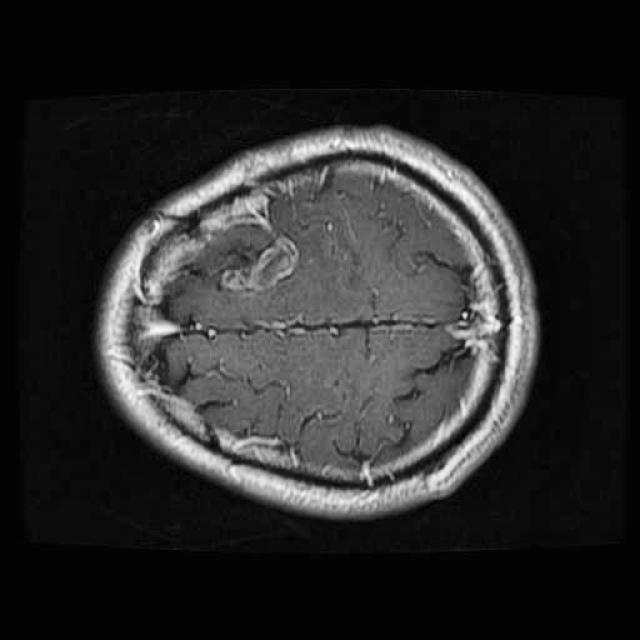Non-Tumor: (208, 225, 312, 304)
